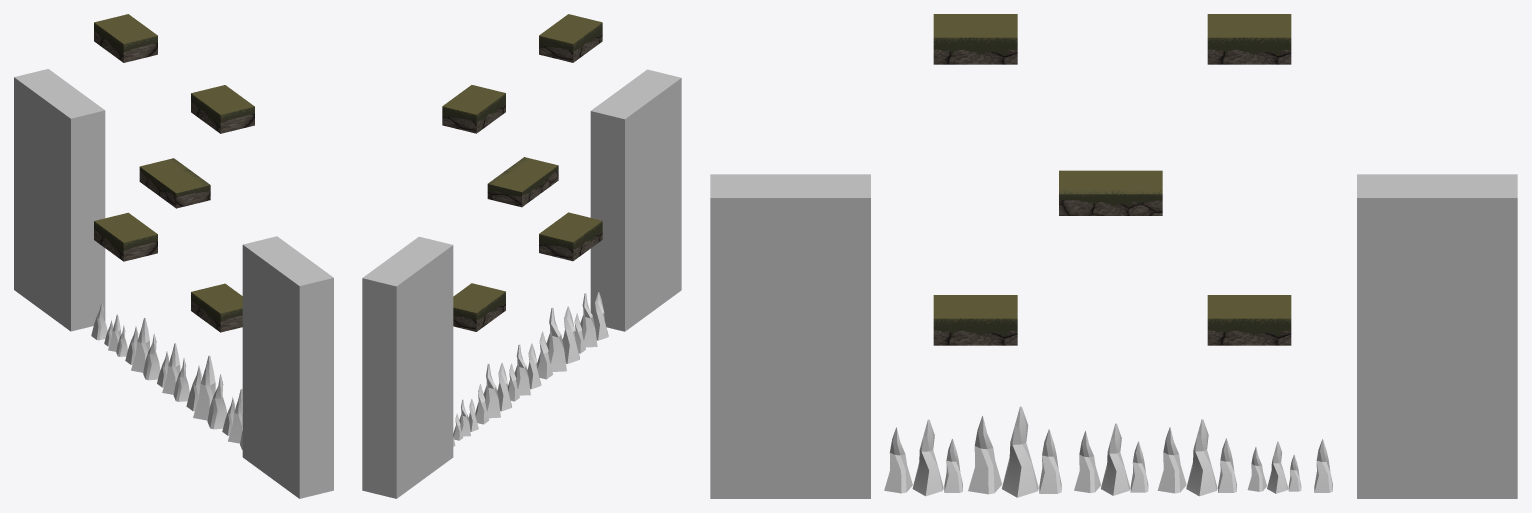
The model's file is Region_2_Level_1.fbx.
3 views of the same model, side by side, from view 1: azimuth 30°, elevation 25°; view 2: azimuth 150°, elevation 25°; view 3: azimuth 270°, elevation 25° (orthographic). The views are drawn at different scales.
Parts seen in each view (by area): view 1: Cube.001, Cube.005, Cube.022, Cube.020, Cube.003, Cube.004, Cube.002, Cube.021; view 2: Cube.005, Cube.001, Cube.022, Cube.020, Cube.021, Cube.004, Cube.002, Cube.003; view 3: Cube.001, Cube.005, Cube.022, Cube.020, Cube.021, Cube.002, Cube.003, Cube.004.
Part boxes in pixels (<box>): Cube.001: <box>242,236,333,498</box>; Cube.005: <box>14,69,105,331</box>; Cube.022: <box>91,301,242,449</box>; Cube.020: <box>139,158,210,208</box>; Cube.003: <box>94,212,157,261</box>; Cube.004: <box>94,14,157,62</box>; Cube.002: <box>191,85,254,133</box>; Cube.021: <box>191,283,242,332</box>; Cube.005: <box>362,236,453,498</box>; Cube.001: <box>590,69,681,331</box>; Cube.022: <box>453,292,608,446</box>; Cube.020: <box>487,157,558,207</box>; Cube.021: <box>539,212,602,261</box>; Cube.004: <box>442,85,505,133</box>; Cube.002: <box>539,14,602,62</box>; Cube.003: <box>453,283,505,331</box>; Cube.001: <box>710,174,870,498</box>; Cube.005: <box>1357,174,1517,498</box>; Cube.022: <box>884,406,1332,497</box>; Cube.020: <box>1059,170,1162,215</box>; Cube.021: <box>933,295,1017,345</box>; Cube.002: <box>933,14,1017,64</box>; Cube.003: <box>1207,295,1291,345</box>; Cube.004: <box>1207,14,1291,64</box>.
Bounding box in the file's own units: 198 × 1795 × 2839.
